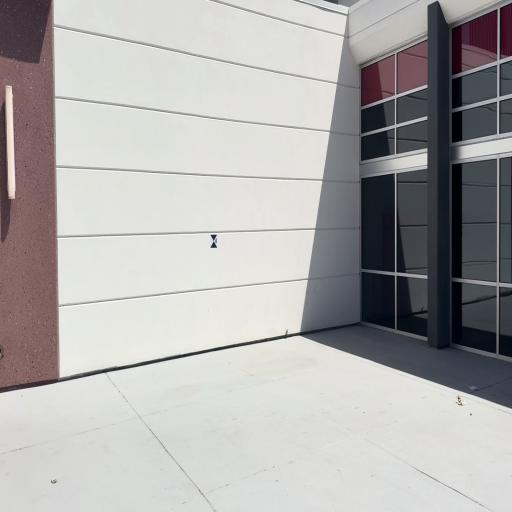target4: (210, 234, 217, 248)
